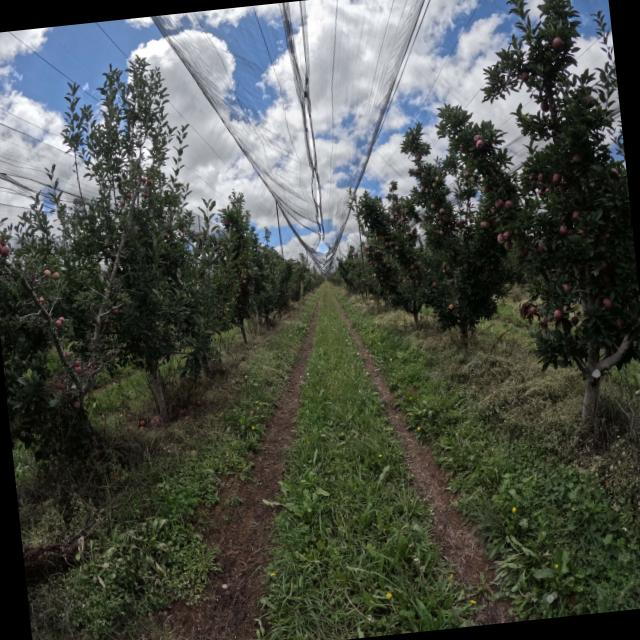-FireBlight-: (519, 300, 536, 323), (539, 319, 548, 331)
